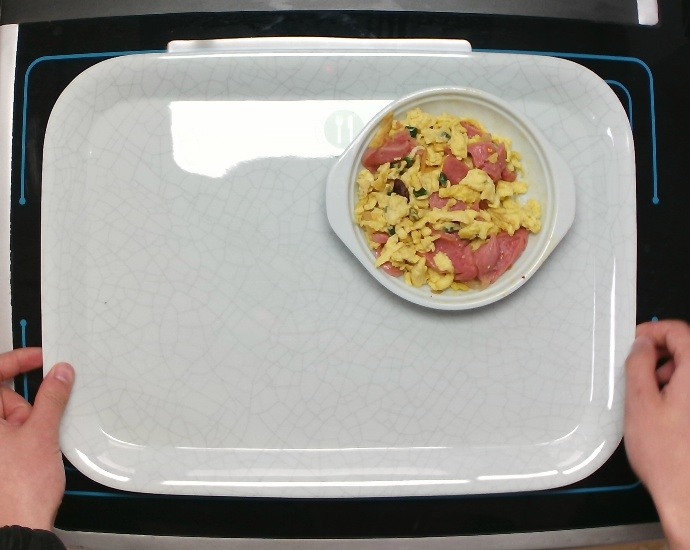JYsf-Shuang_Er_Pan: (304, 83, 590, 327)
